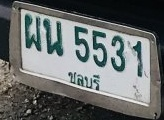txt20: (42, 17, 64, 57)
txt23: (23, 13, 42, 53)
